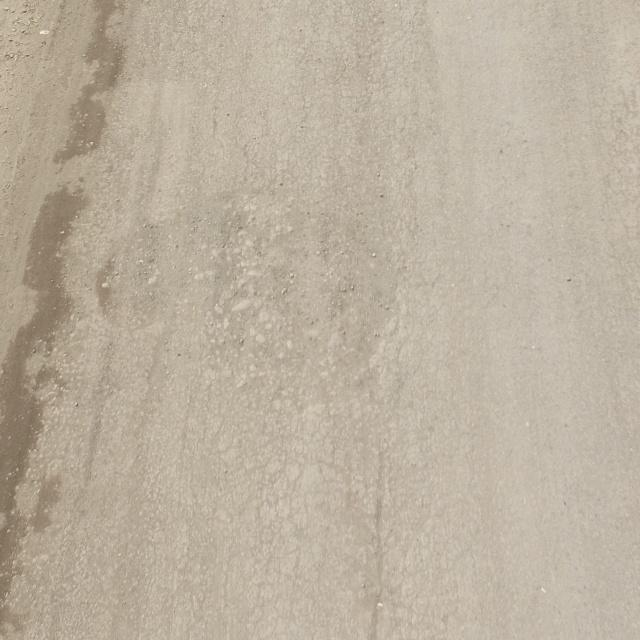BACHE: (219, 196, 397, 373), (93, 224, 195, 330)
PIEL DE COCODRILO: (192, 369, 402, 639), (265, 2, 424, 262), (377, 421, 467, 639), (595, 48, 639, 280), (393, 261, 465, 387), (147, 0, 237, 84)
